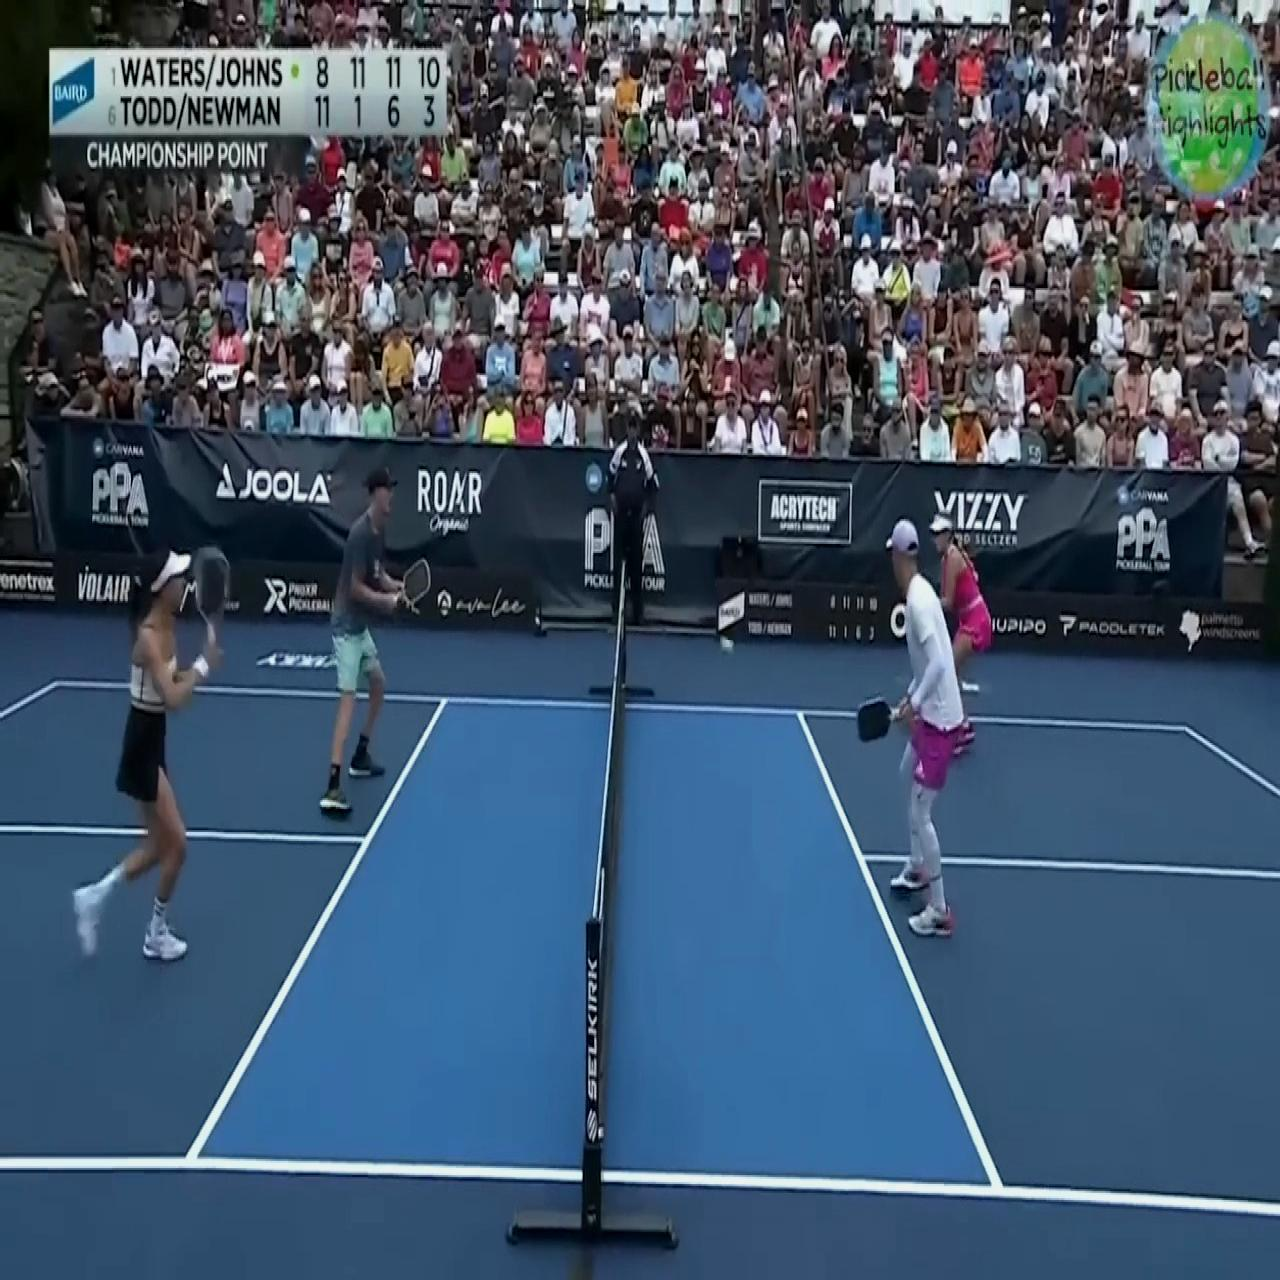Pickleball: (719, 632, 733, 658)
